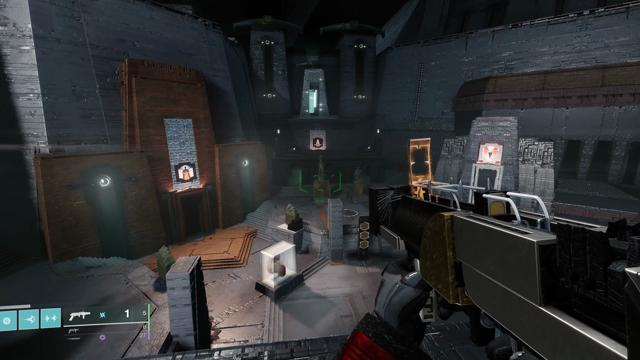enter: (313, 138, 323, 147)
give: (482, 146, 499, 160)
worship: (178, 165, 194, 180)
